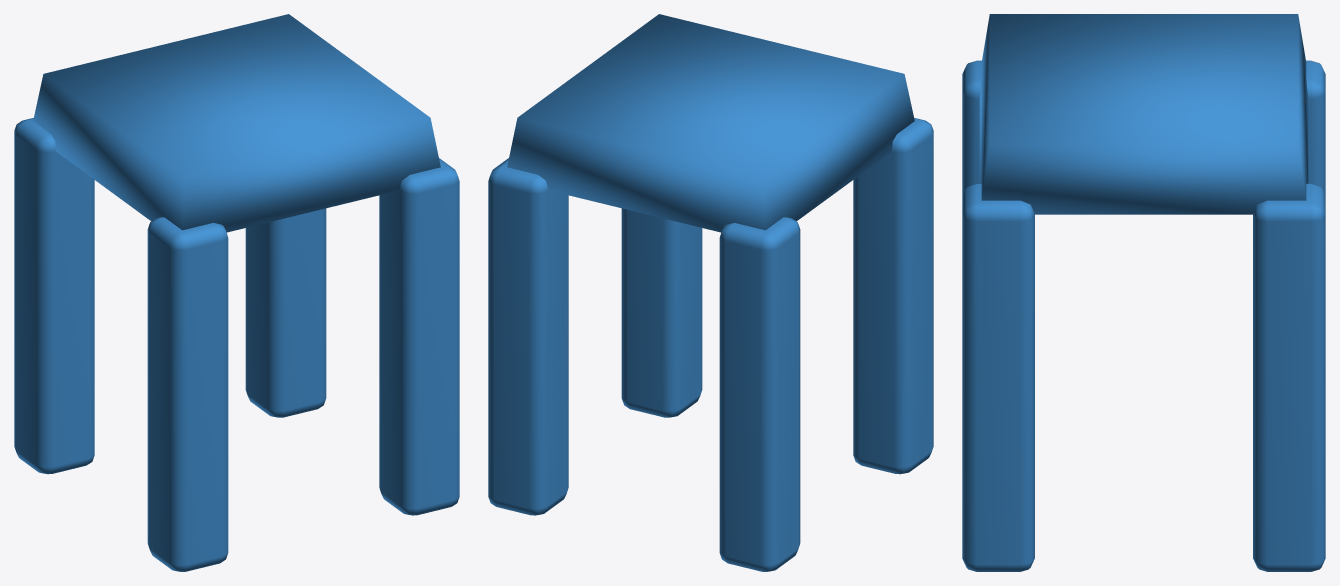
Rendered from stool_blue.glb.
3 views of the same model, side by side, from view 1: azimuth 30°, elevation 25°; view 2: azimuth 150°, elevation 25°; view 3: azimuth 270°, elevation 25° (orthographic). The views are drawn at different scales.
Parts seen in each view (by area): view 1: Seat, Leg, Leg.002, Leg.001, Leg.003; view 2: Seat, Leg.001, Leg.003, Leg, Leg.002; view 3: Seat, Leg.002, Leg.003, Leg, Leg.001.
Part boxes in pixels (bbox=[...]): Seat: bbox=[33, 14, 440, 232]; Leg: bbox=[147, 217, 228, 571]; Leg.002: bbox=[379, 158, 459, 515]; Leg.001: bbox=[14, 118, 94, 474]; Leg.003: bbox=[245, 208, 326, 417]; Seat: bbox=[507, 14, 914, 232]; Leg.001: bbox=[719, 217, 800, 571]; Leg.003: bbox=[488, 158, 568, 515]; Leg: bbox=[853, 118, 933, 474]; Leg.002: bbox=[621, 208, 702, 417]; Seat: bbox=[979, 14, 1308, 214]; Leg.002: bbox=[962, 183, 1034, 571]; Leg.003: bbox=[1253, 183, 1325, 571]; Leg: bbox=[962, 60, 981, 196]; Leg.001: bbox=[1306, 60, 1325, 196].
Size of the model in its own units: 0.25 by 0.32 by 0.25.
